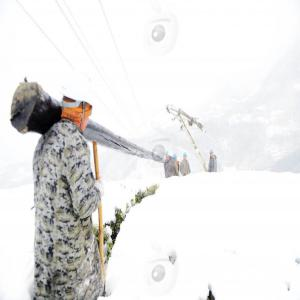blue: (173, 154, 178, 163), (183, 153, 188, 161), (210, 149, 214, 157), (166, 151, 170, 159)
white: (58, 70, 95, 127)
